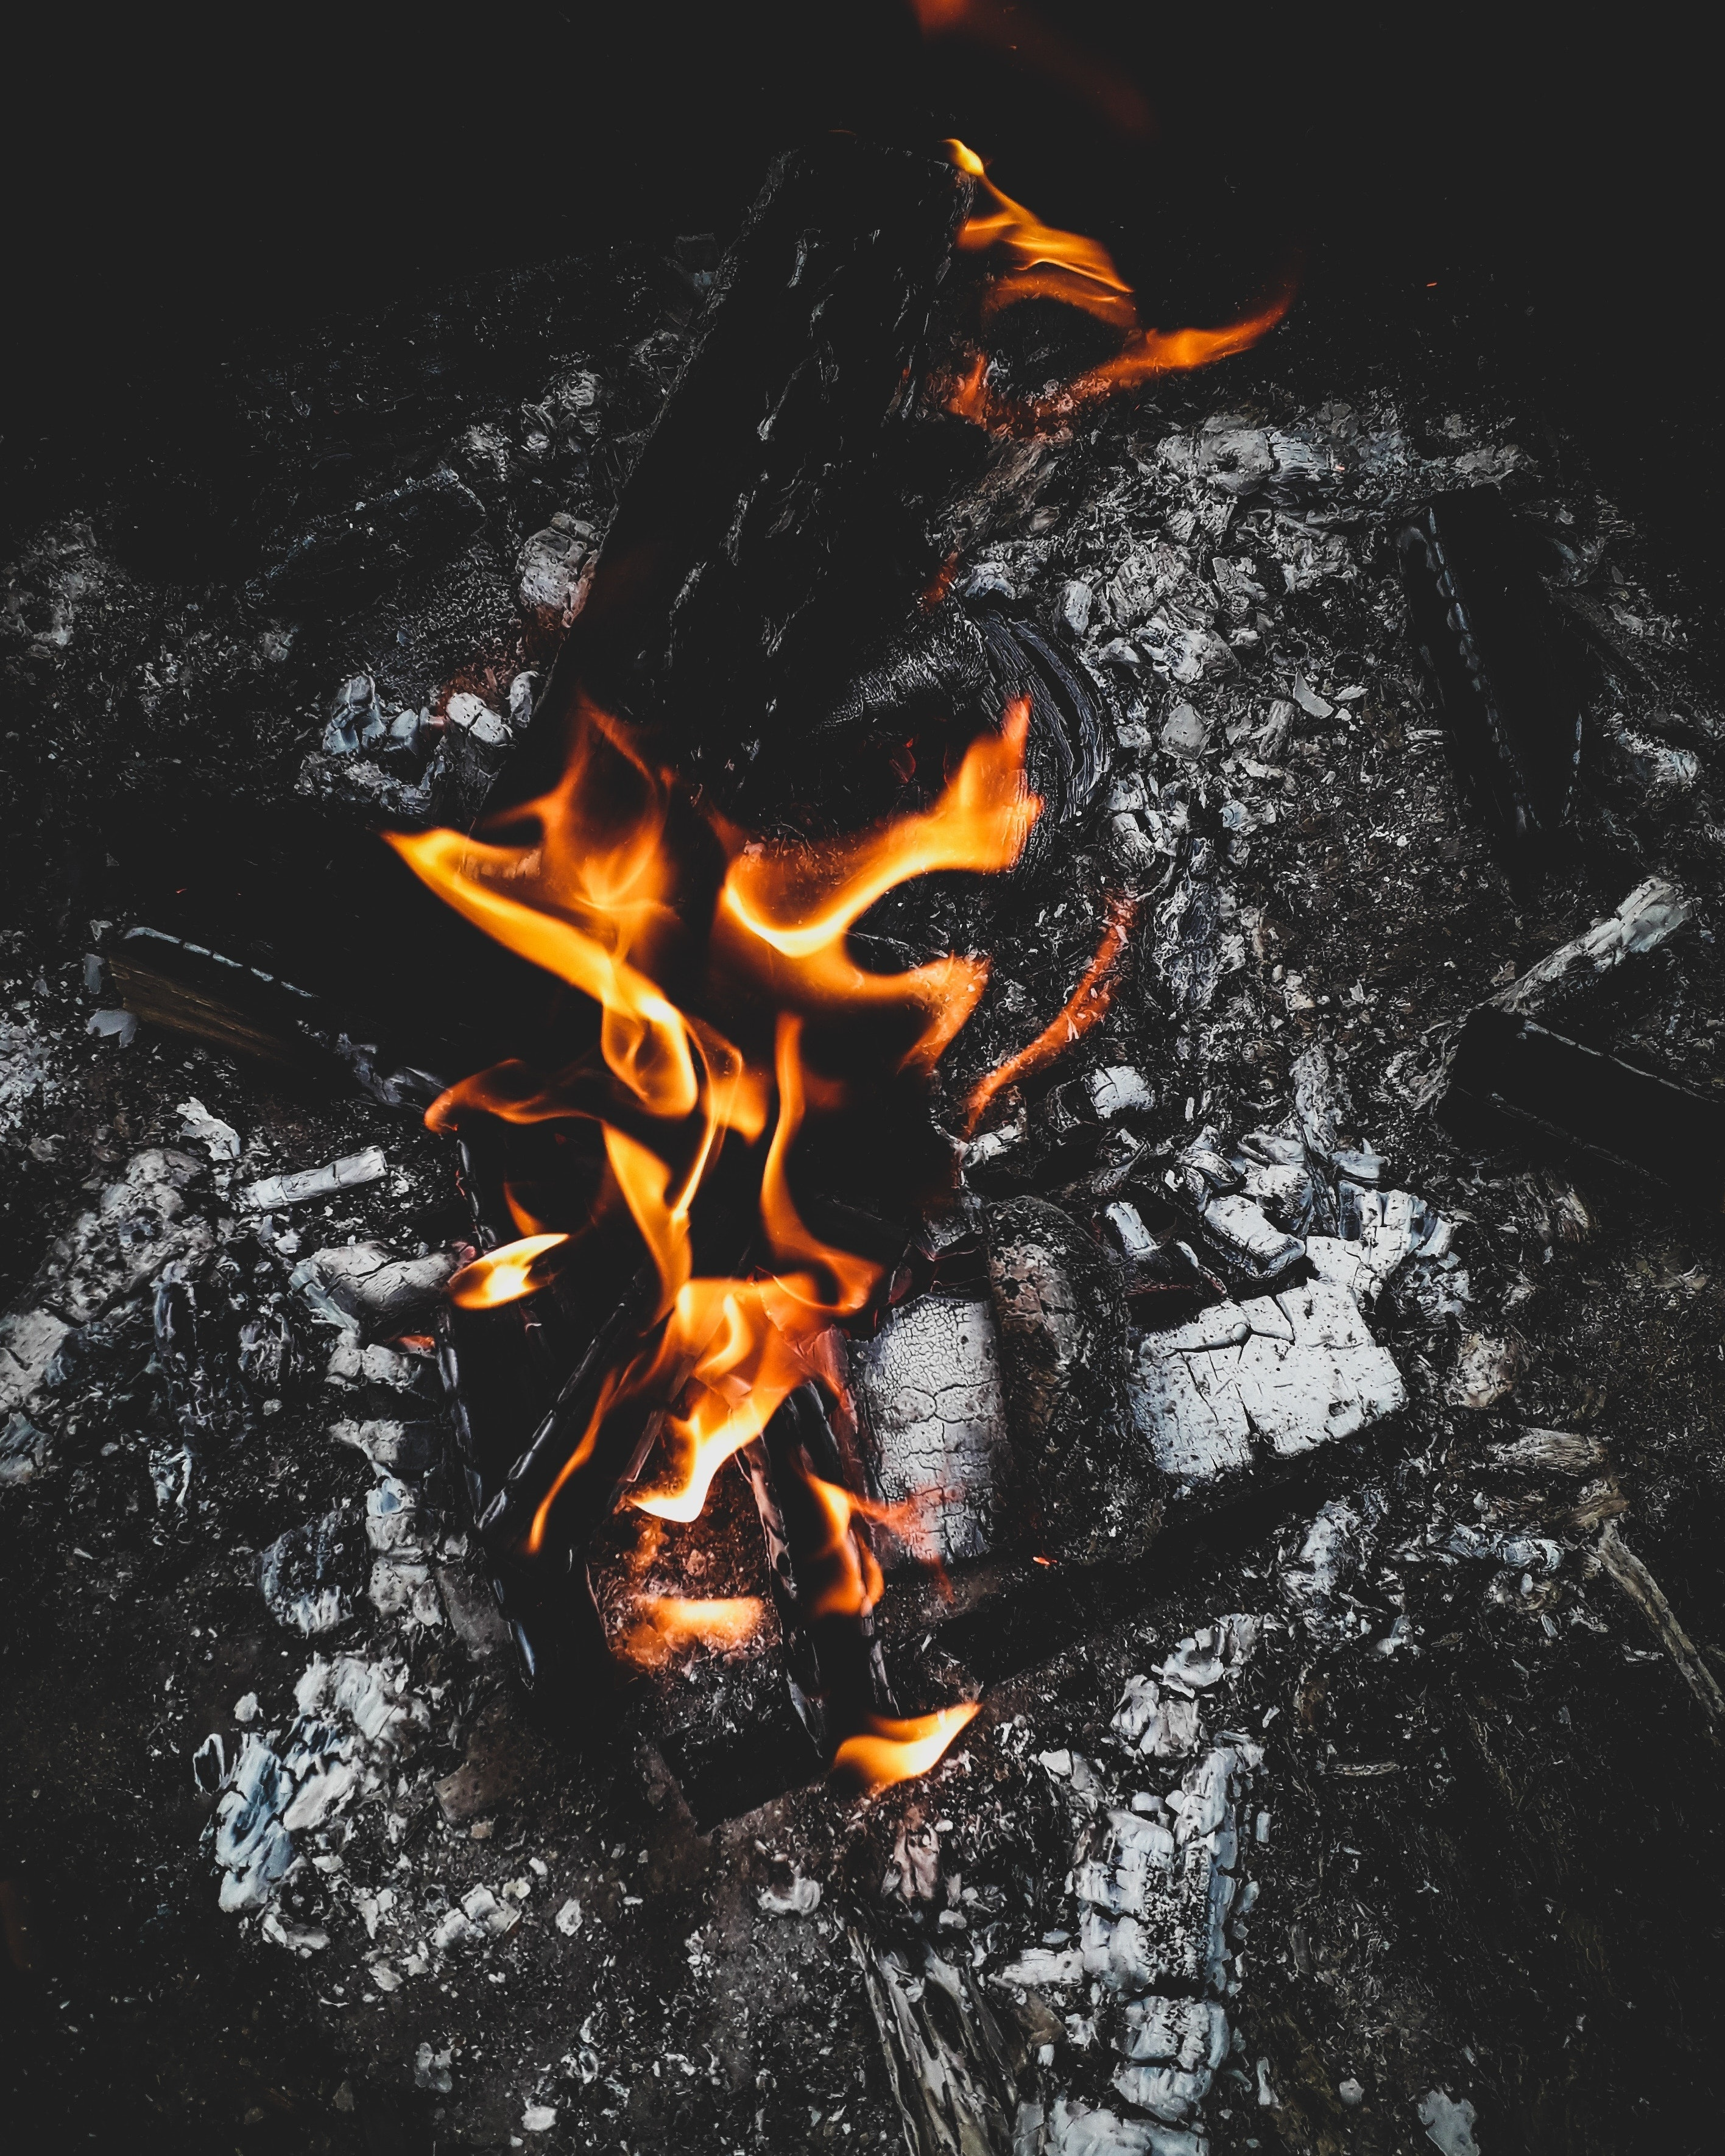fire: (421, 639, 1091, 1779), (910, 134, 1278, 438)
